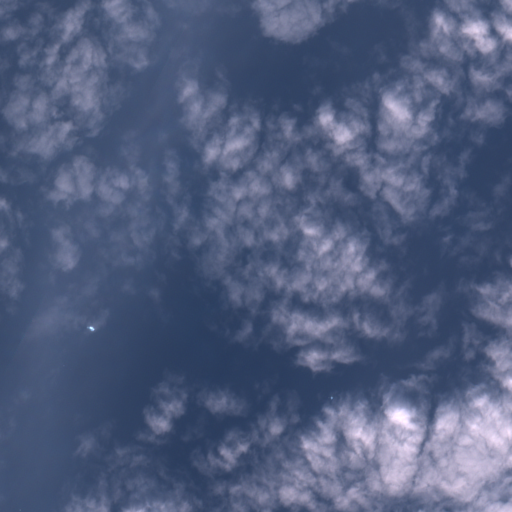Iceberg: (87, 326, 94, 330), (331, 396, 332, 399)
